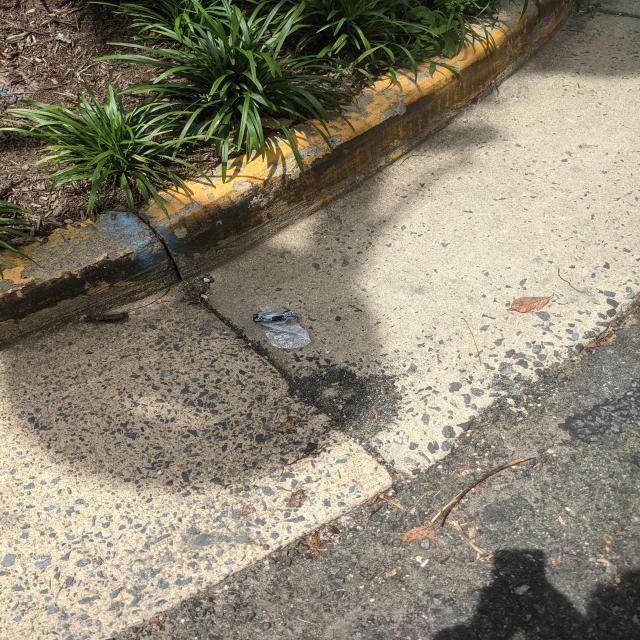litter: (261, 305, 313, 349)
